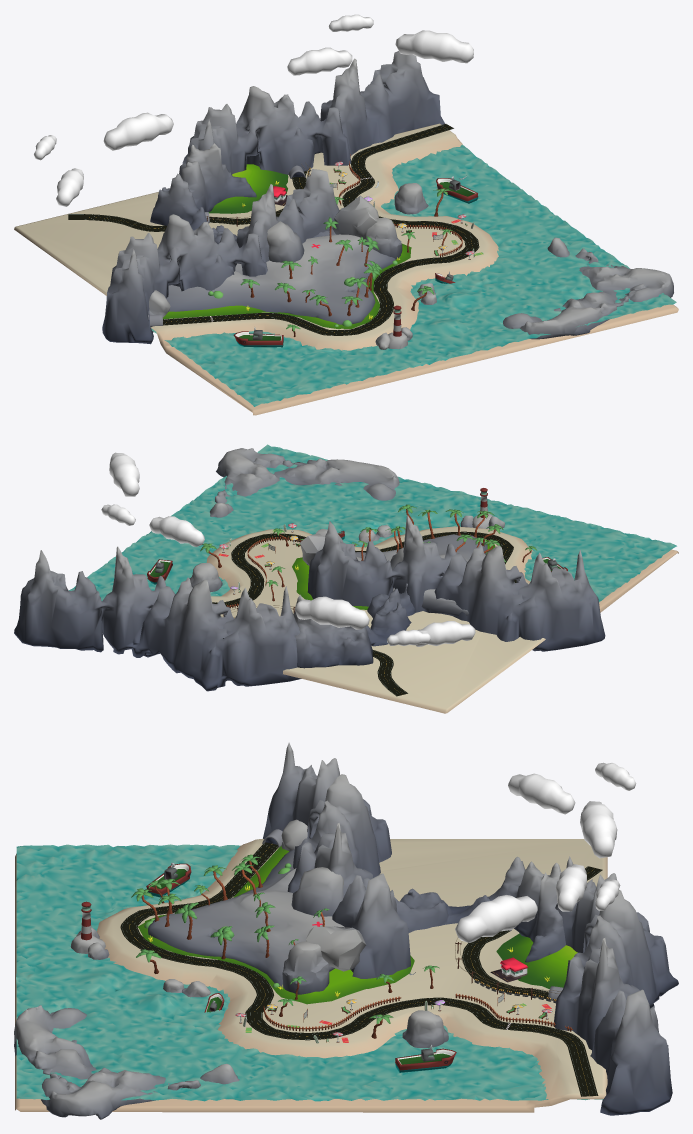
File: modelado hambiente.fbx
3 views of the same model, one above another, from view 1: azimuth 30°, elevation 25°; view 2: azimuth 150°, elevation 25°; view 3: azimuth 270°, elevation 25° (orthographic). The views are drawn at different scales.
Parts seen in each view (by area): view 1: Plane.069, Plane.061, Plane.080, Plane.074, Plane.070, Cliff4.004, Plane.048, Plane.082, Mball.009, Mball.012, Plane.085, Plane.084 (+10 smaller); view 2: Plane.069, Plane.080, Plane.074, Plane.061, Cliff4.004, Plane.082, Plane.048, Mball.012, Plane.070, Mball.007, Mball.009, Mball.010 (+7 smaller); view 3: Plane.069, Plane.061, Plane.080, Plane.074, Plane.070, Cliff4.004, Plane.048, Plane.082, Plane.085, Mball.009, Plane.084, Cliff2.024 (+13 smaller).
Part boxes in pixels (x1,y1,x2,y2): Plane.069: [151, 144, 676, 406]; Plane.061: [14, 123, 678, 415]; Plane.080: [182, 51, 444, 174]; Plane.074: [102, 169, 339, 344]; Plane.070: [166, 234, 395, 324]; Cliff4.004: [503, 237, 673, 339]; Plane.048: [163, 124, 479, 335]; Plane.082: [150, 143, 256, 244]; Mball.009: [395, 30, 473, 63]; Mball.012: [103, 112, 173, 150]; Plane.085: [163, 243, 411, 329]; Plane.084: [208, 164, 288, 213]; Plane.069: [69, 444, 676, 602]; Plane.080: [14, 546, 301, 691]; Plane.074: [307, 515, 605, 651]; Plane.061: [206, 526, 678, 713]; Cliff4.004: [210, 448, 399, 517]; Plane.082: [293, 583, 415, 668]; Plane.048: [212, 531, 516, 606]; Mball.012: [295, 596, 369, 629]; Plane.070: [355, 534, 487, 615]; Mball.007: [149, 516, 204, 546]; Mball.009: [109, 452, 139, 496]; Mball.010: [416, 621, 475, 646]; Plane.069: [16, 844, 603, 1101]; Plane.061: [15, 839, 607, 1112]; Plane.080: [553, 856, 678, 1115]; Plane.074: [263, 742, 410, 978]; Plane.070: [148, 849, 344, 987]; Cliff4.004: [14, 1005, 239, 1119]; Plane.048: [120, 842, 598, 1096]; Plane.082: [394, 856, 565, 962]; Plane.085: [138, 846, 414, 1004]; Mball.009: [455, 895, 537, 942]; Plane.084: [496, 933, 577, 988]; Cliff2.024: [291, 867, 343, 916].
Bounding box in the file's own units: 27359 × 9110 × 26615.
